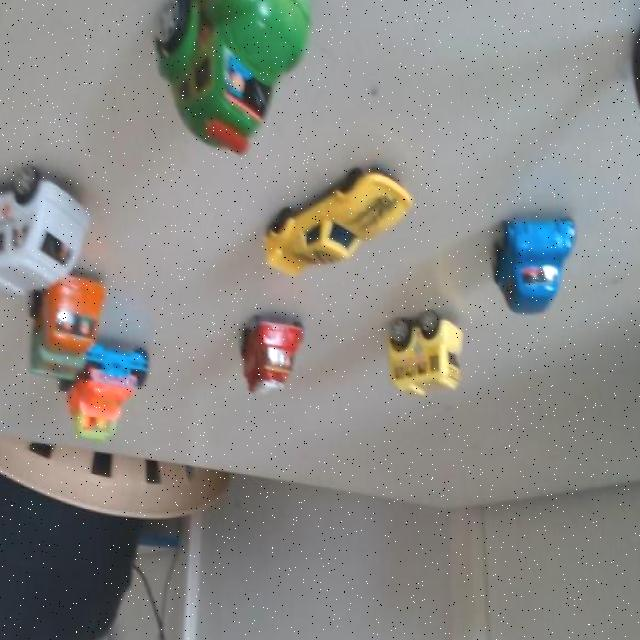car: (138, 0, 338, 163), (0, 141, 105, 319), (269, 160, 405, 285), (73, 341, 162, 454), (377, 295, 467, 400), (227, 296, 306, 408), (30, 266, 100, 388), (498, 208, 578, 312)
